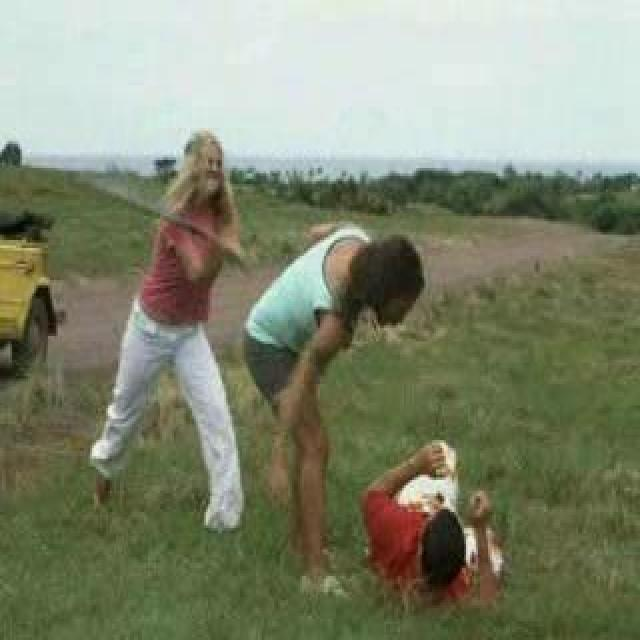fight: (76, 106, 580, 634)
